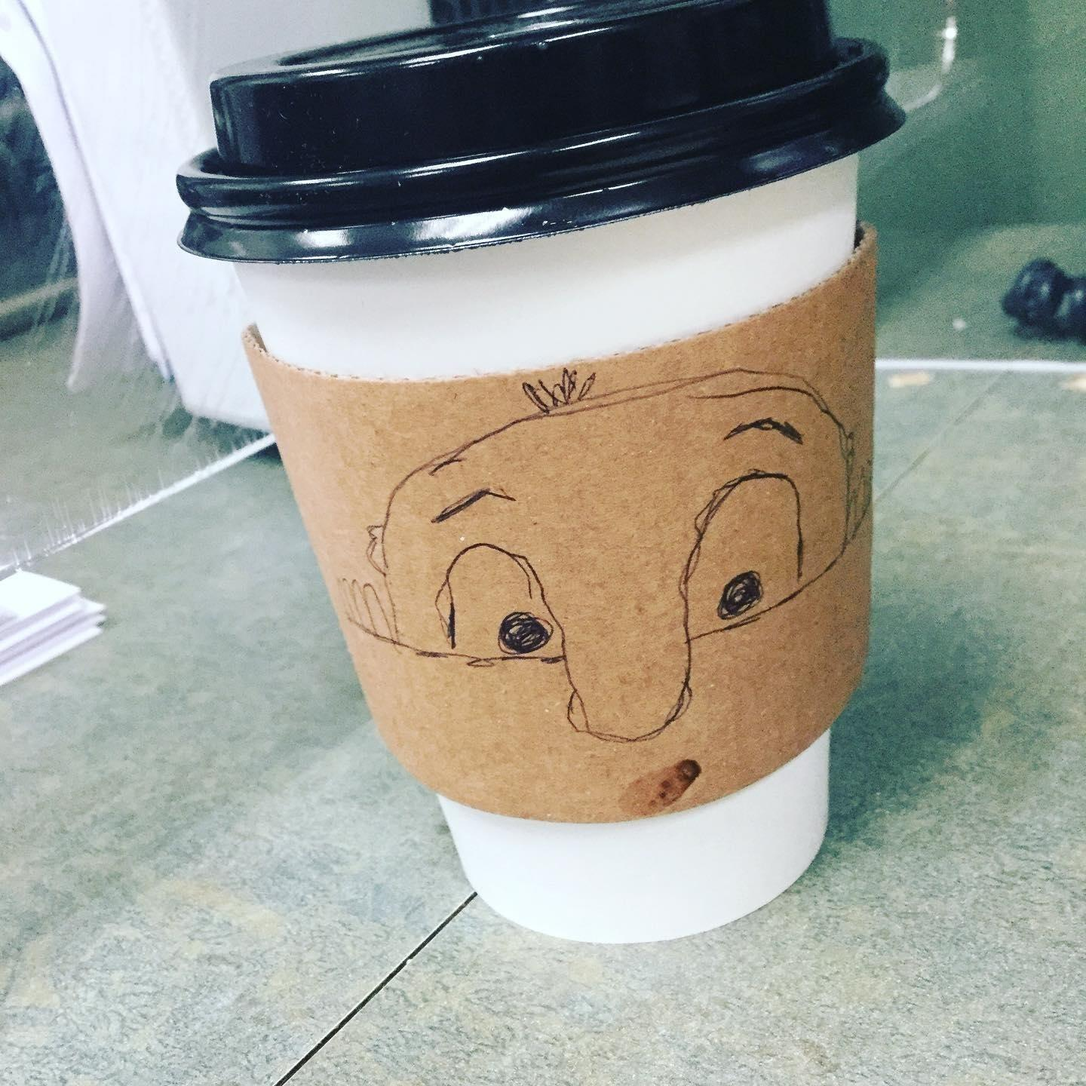cup-disposable: (164, 0, 929, 958)
